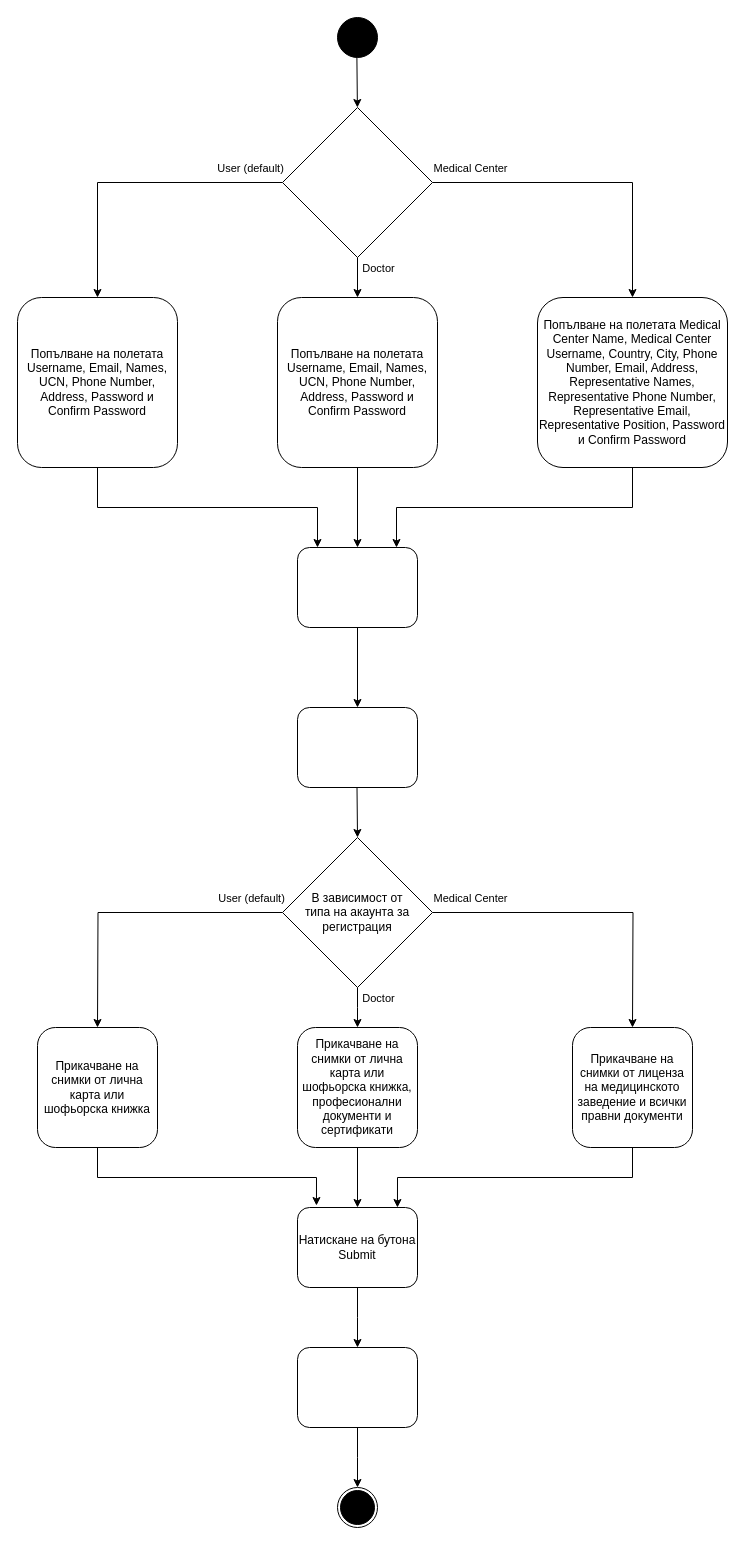
Some shapes in this 745 by 1545 pixel diagram are drawn without their labels. Here are the shapes that lost their labels. From the top down, the box of each, then its label:
(282, 106, 432, 258): Избиране на типа на акаунта за регистрация
(296, 546, 418, 628): Съгласие с Terms of Service и Privacy Policy
(296, 706, 418, 788): Натискане на бутона Register
(296, 1346, 418, 1428): Успешно влизане в акаунта
